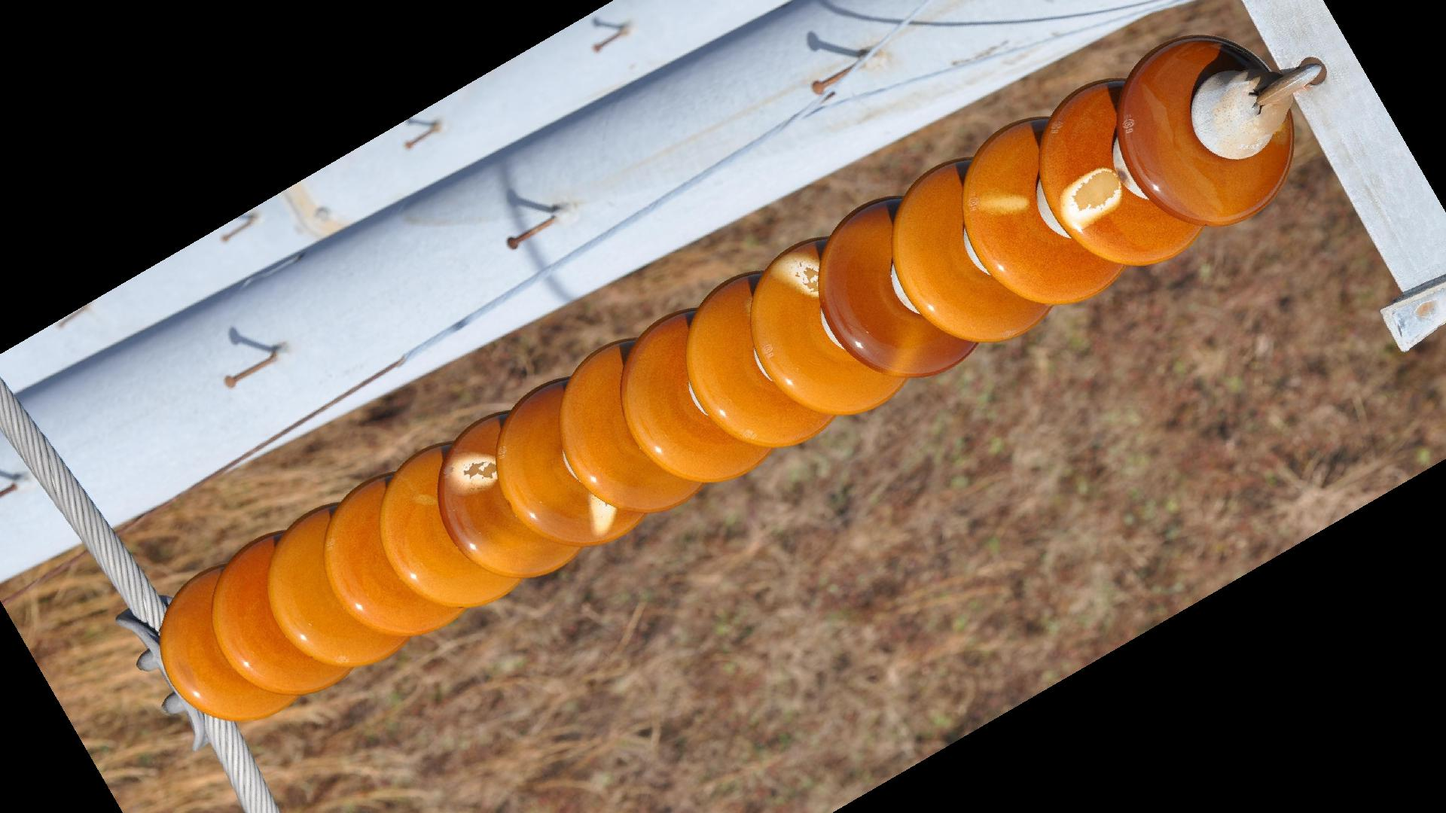insulator: (153, 26, 1302, 729)
insulator_flashover: (1057, 164, 1126, 233), (767, 249, 826, 300), (438, 449, 499, 498), (968, 187, 1035, 223), (584, 493, 619, 542)
